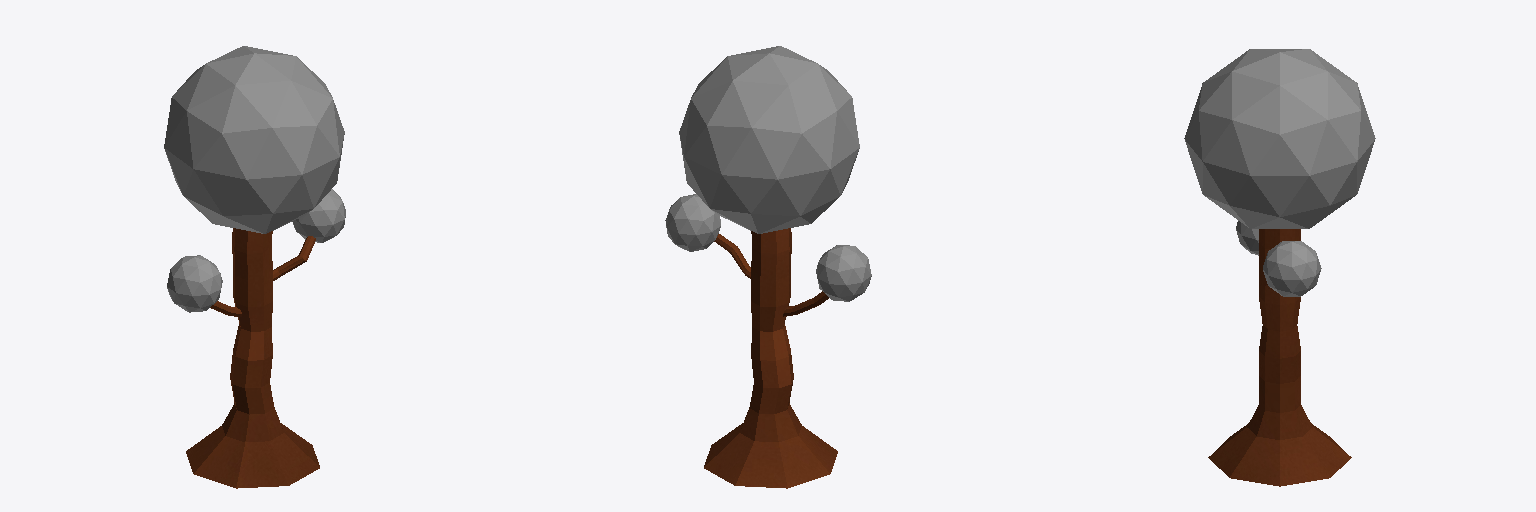
3 renders of one model, left to right at view 1: azimuth 30°, elevation 25°; view 2: azimuth 150°, elevation 25°; view 3: azimuth 270°, elevation 25°, orthographic.
Parts seen in each view (by area): view 1: hojas, Tree; view 2: hojas, Tree; view 3: hojas, Tree.
Boxes of the visible parts, x1,y1,x2,y2 form: hojas: [164, 46, 345, 312]; Tree: [186, 228, 319, 488]; hojas: [665, 46, 871, 301]; Tree: [704, 228, 837, 488]; hojas: [1184, 49, 1375, 296]; Tree: [1208, 229, 1351, 486].
Size of the model in its own units: 0.9208 by 1.94 by 0.8296.
2 materials, 1 textured.